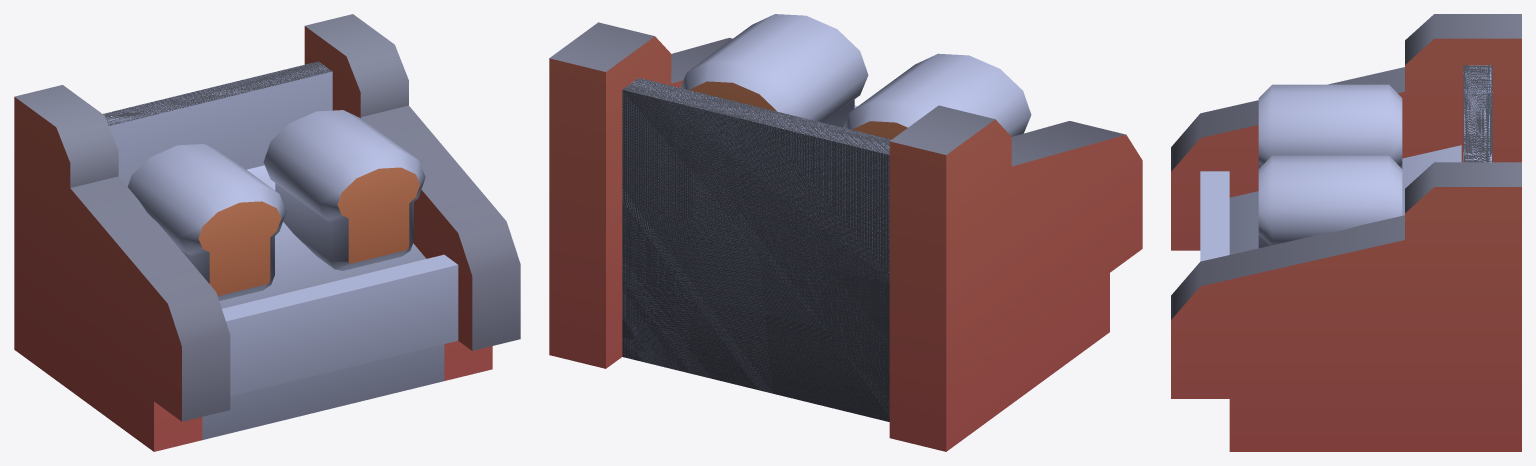
The model's file is display-bread.obj.
3 views of the same model, side by side, from view 1: azimuth 30°, elevation 25°; view 2: azimuth 150°, elevation 25°; view 3: azimuth 270°, elevation 25° (orthographic). The views are drawn at different scales.
Parts seen in each view (by area): view 1: display-bread, bread; view 2: display-bread, bread; view 3: display-bread, bread.
Boxes of the visible parts, x1,y1,x2,y2 form: display-bread: (14,14,520,451); bread: (127,110,425,300); display-bread: (549,22,1142,451); bread: (680,14,1031,139); display-bread: (1171,14,1521,451); bread: (1258,84,1402,248).
Bounding box in the file's own units: 0.7 × 0.5 × 0.6.
